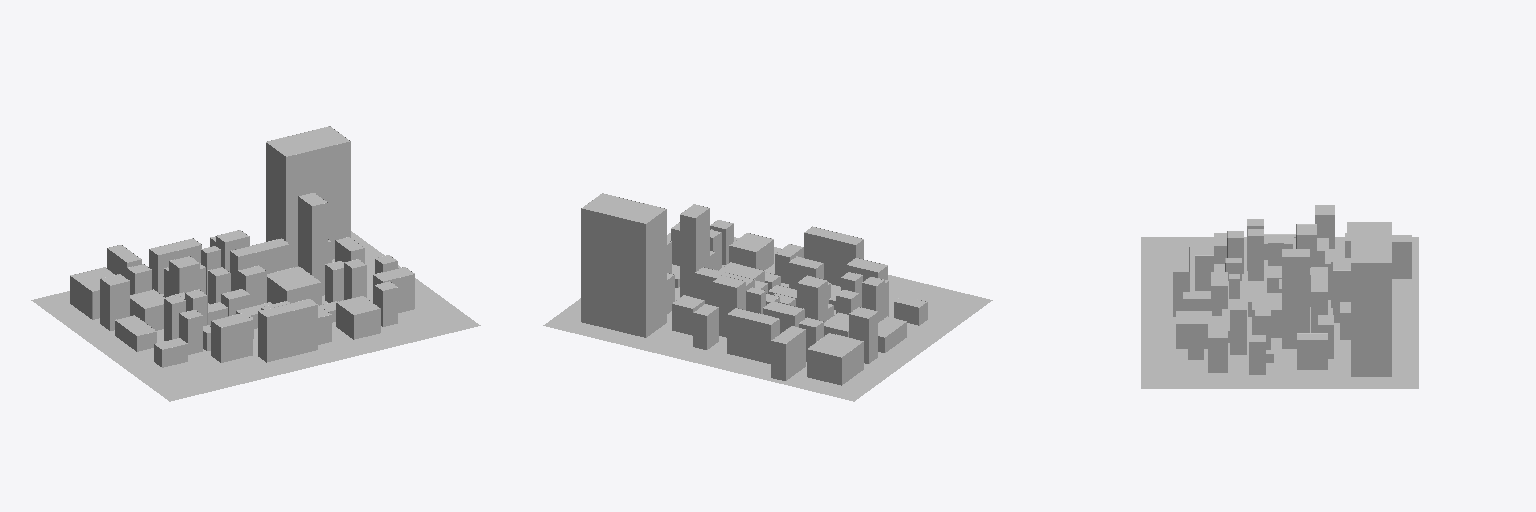
Rendered from city.obj.
3 renders of one model, left to right at view 1: azimuth 30°, elevation 25°; view 2: azimuth 150°, elevation 25°; view 3: azimuth 270°, elevation 25°, orthographic.
Visible parts, largest first — view 1: Plane01, Box33, Box47, Box30, Box40, Box27, Box18, Box46, Box32, Box38, Box31, Box28 (+16 smaller); view 2: Box33, Plane01, Box38, Box31, Box30, Box47, Box17, Box46, Box24, Box15, Box32, Box34 (+9 smaller); view 3: Plane01, Box33, Box30, Box36, Box44, Box47, Box27, Box24, Box40, Box35, Box17, Box18 (+8 smaller).
Part boxes in pixels (left/top/right/bottom): Plane01: left=31, top=231, right=480, bottom=401; Box33: left=266, top=126, right=350, bottom=267; Box47: left=258, top=299, right=317, bottom=362; Box30: left=298, top=192, right=327, bottom=295; Box40: left=211, top=313, right=252, bottom=362; Box27: left=230, top=238, right=289, bottom=290; Box18: left=267, top=266, right=321, bottom=304; Box46: left=336, top=296, right=380, bottom=339; Box32: left=100, top=274, right=129, bottom=330; Box38: left=70, top=267, right=114, bottom=319; Box31: left=149, top=238, right=201, bottom=293; Box28: left=115, top=315, right=156, bottom=351; Box33: left=581, top=193, right=666, bottom=337; Plane01: left=543, top=233, right=992, bottom=401; Box38: left=807, top=333, right=863, bottom=385; Box31: left=727, top=308, right=779, bottom=363; Box30: left=680, top=204, right=709, bottom=297; Box47: left=804, top=226, right=863, bottom=286; Box17: left=771, top=326, right=805, bottom=380; Box46: left=729, top=233, right=773, bottom=269; Box24: left=712, top=275, right=745, bottom=337; Box15: left=797, top=275, right=827, bottom=322; Box32: left=849, top=307, right=877, bottom=363; Box34: left=693, top=304, right=718, bottom=349; Plane01: left=1141, top=237, right=1418, bottom=388; Box33: left=1351, top=231, right=1391, bottom=376; Box30: left=1282, top=249, right=1309, bottom=348; Box36: left=1297, top=333, right=1327, bottom=369; Box44: left=1208, top=322, right=1227, bottom=372; Box47: left=1173, top=247, right=1189, bottom=316; Box27: left=1311, top=267, right=1327, bottom=332; Box24: left=1333, top=258, right=1350, bottom=322; Box40: left=1195, top=240, right=1213, bottom=290; Box35: left=1230, top=303, right=1246, bottom=354; Box17: left=1392, top=235, right=1411, bottom=278; Box18: left=1252, top=293, right=1281, bottom=337.
Bounding box in the file's own units: 10185 × 3566 × 7863.